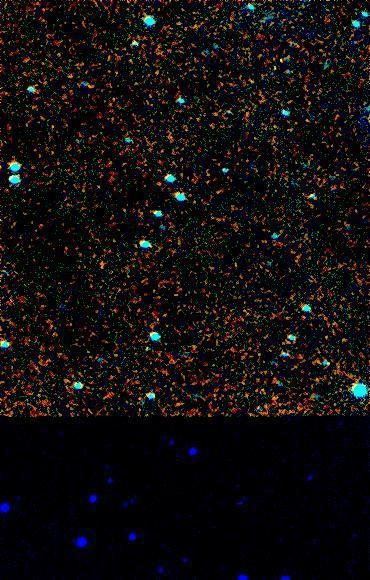star: (178, 332, 208, 362)
